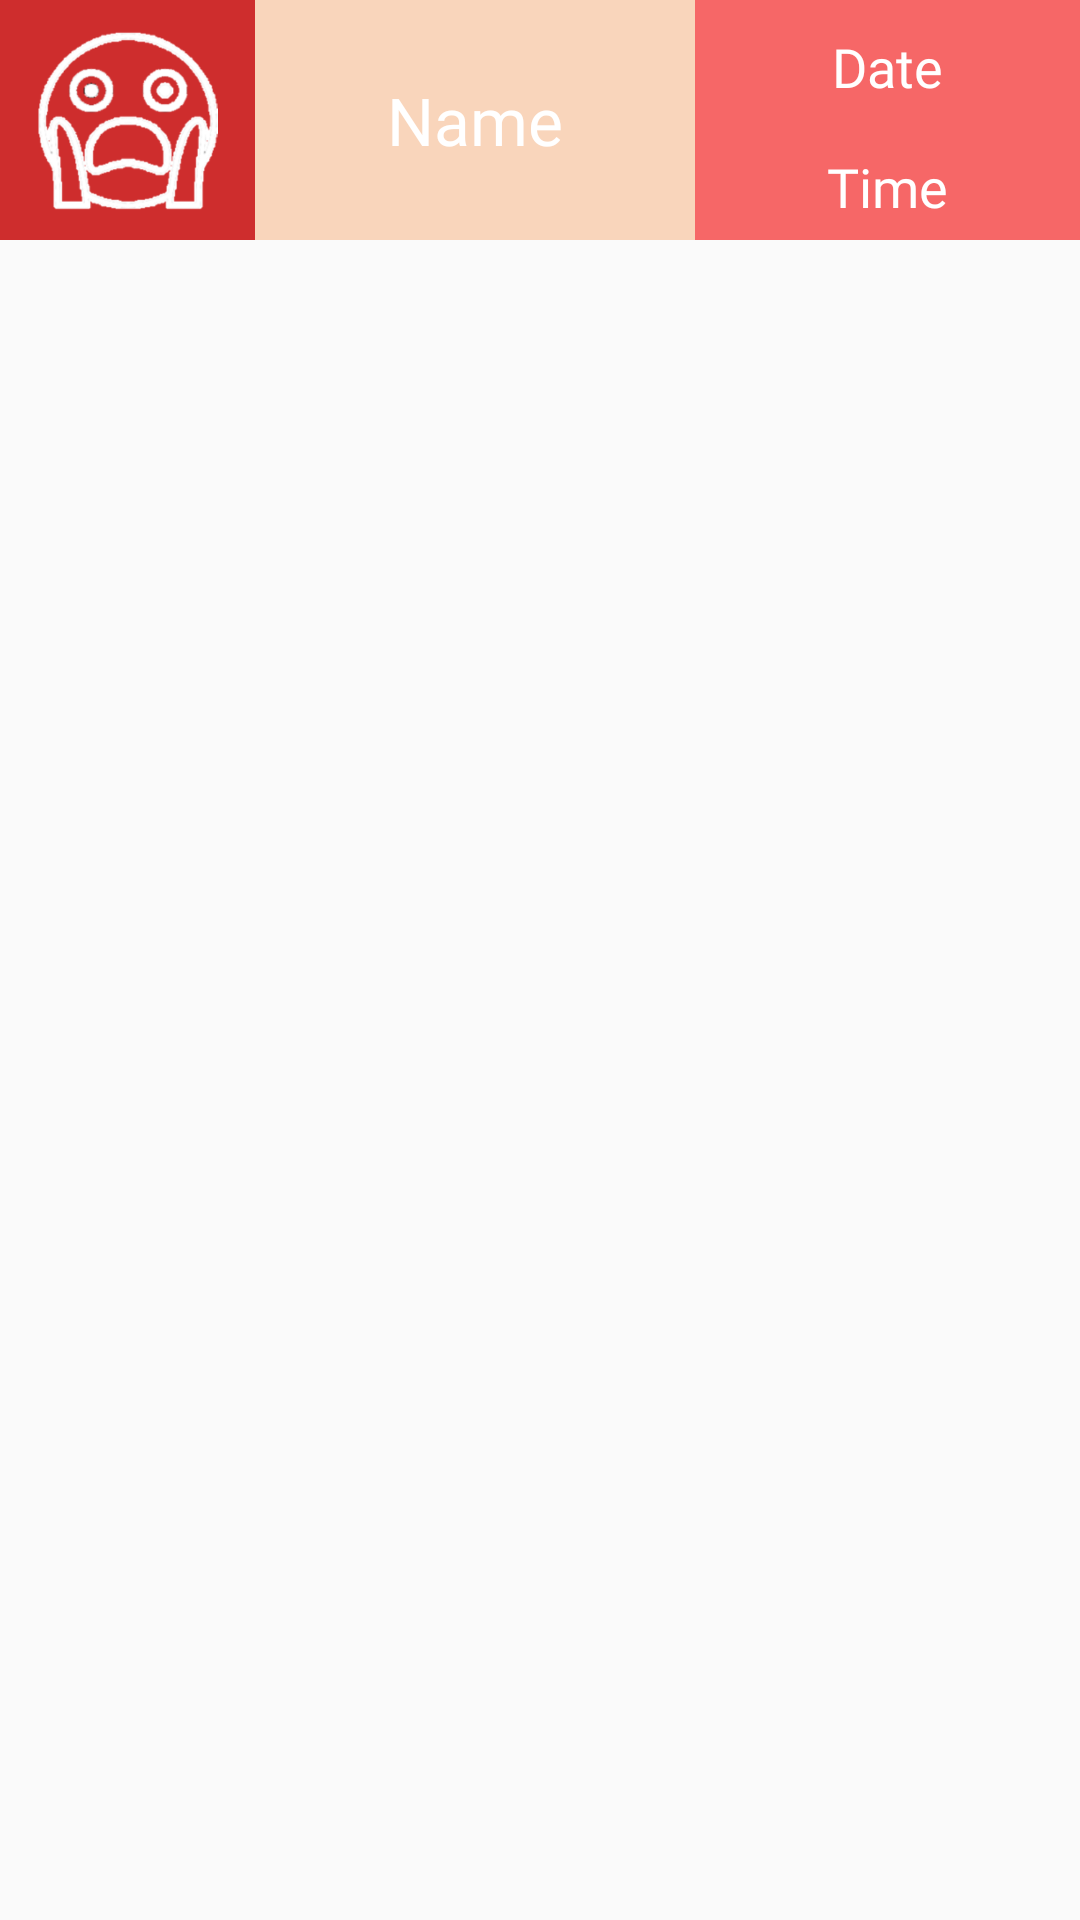

Icons on this 1080*1920 Android screen, each with the point to tap as (x=x, y=y):
emoji: (x=127, y=120)
